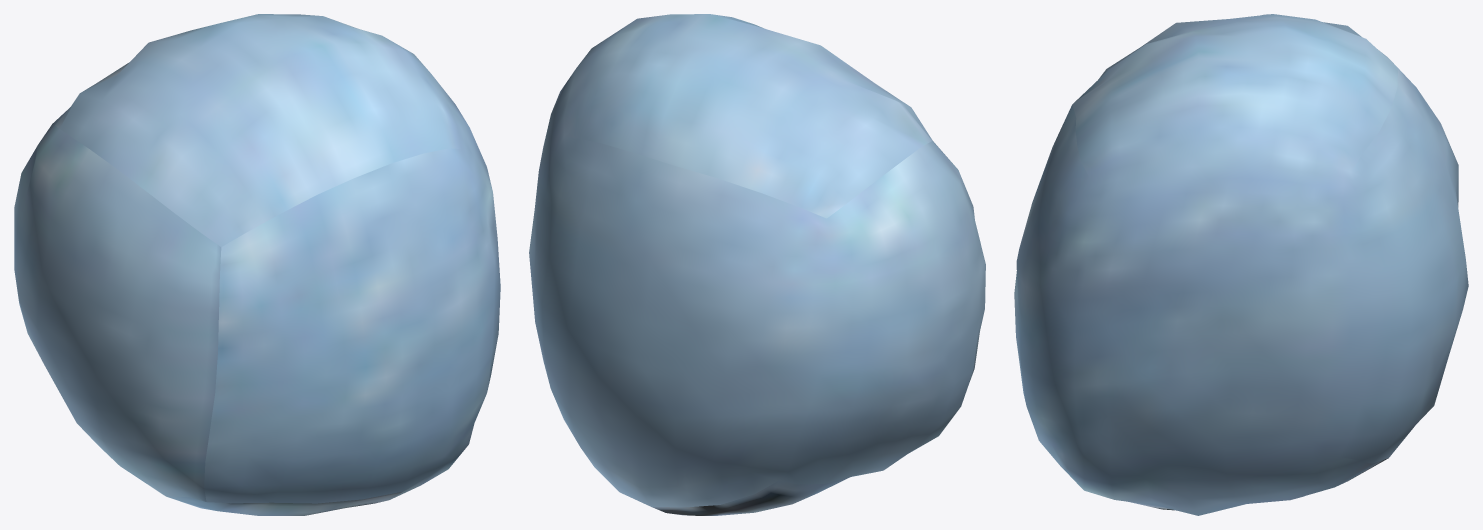
The model's file is ice_asteroid.glb.
3 views of the same model, side by side, from view 1: azimuth 30°, elevation 25°; view 2: azimuth 150°, elevation 25°; view 3: azimuth 270°, elevation 25° (orthographic). The views are drawn at different scales.
Visible parts, largest first — view 1: Cube; view 2: Cube; view 3: Cube.
Part boxes in pixels (bbox=[...]): Cube: bbox=[14, 14, 500, 515]; Cube: bbox=[529, 14, 985, 515]; Cube: bbox=[1014, 14, 1468, 515].
Bounding box in the file's own units: 6.76 × 7.35 × 6.66.
Materials: 1 (1 with a texture image).
